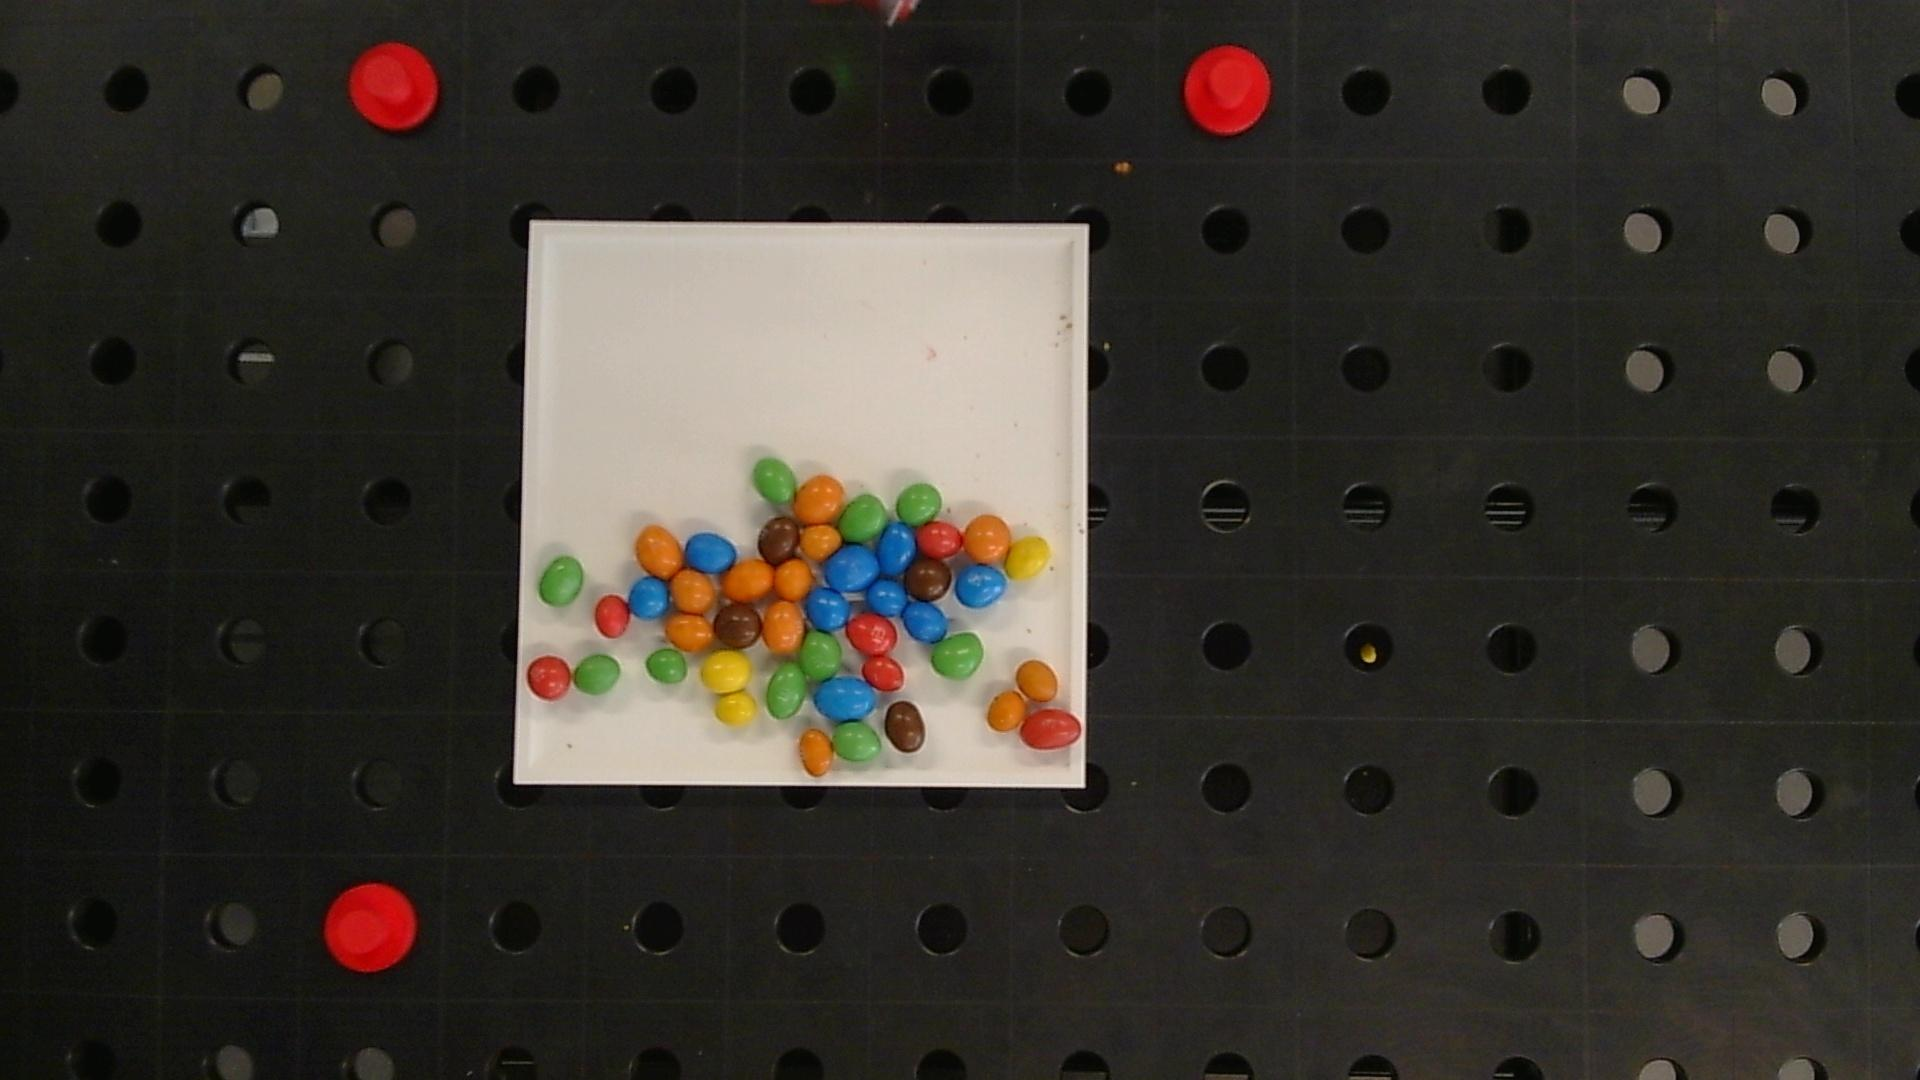blue: (814, 676, 877, 721), (825, 545, 880, 591), (955, 564, 1006, 608), (684, 534, 737, 571), (878, 521, 914, 575), (903, 603, 947, 644), (806, 589, 851, 628), (630, 578, 670, 616), (868, 579, 907, 617)
brown: (885, 700, 926, 753), (716, 605, 762, 647), (906, 559, 951, 600), (760, 518, 799, 559)
green: (930, 632, 984, 679), (839, 493, 887, 542), (766, 662, 807, 719), (538, 556, 583, 605), (800, 630, 840, 682), (572, 654, 621, 694), (754, 458, 796, 502), (833, 723, 882, 761), (897, 483, 942, 524), (645, 649, 688, 683)
orange: (634, 525, 683, 579), (795, 477, 844, 525), (764, 601, 804, 655), (963, 514, 1009, 562), (723, 559, 774, 601), (671, 568, 713, 613), (666, 615, 716, 651), (1017, 659, 1058, 702), (986, 691, 1029, 731), (800, 728, 833, 777), (773, 559, 811, 600), (802, 524, 843, 559)
red: (1021, 709, 1084, 745), (847, 615, 897, 654), (527, 655, 571, 699), (916, 522, 963, 555), (595, 596, 630, 638), (862, 657, 906, 691)
yellow: (702, 651, 752, 692), (1006, 535, 1050, 580), (715, 694, 760, 727)
